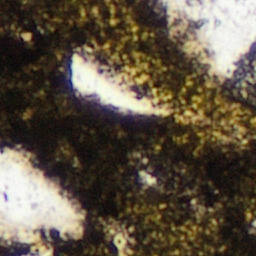cement_matrix: (0, 0, 255, 255), (69, 51, 171, 116), (0, 238, 32, 255), (180, 111, 199, 120), (142, 173, 154, 185)
gravel_crushed_stones: (0, 149, 82, 255), (158, 0, 255, 79), (70, 52, 170, 115), (113, 230, 128, 255), (181, 112, 198, 119), (143, 174, 153, 184)
